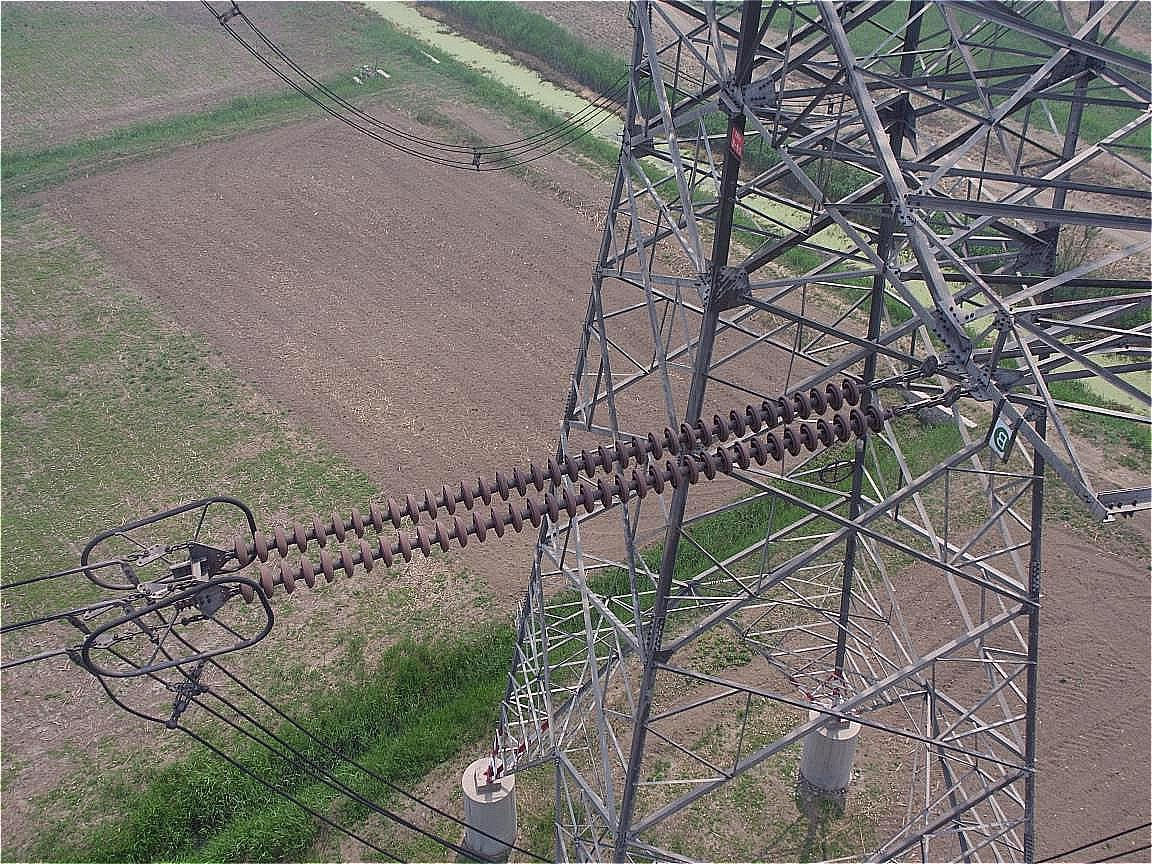insultor1: (233, 375, 887, 602)
